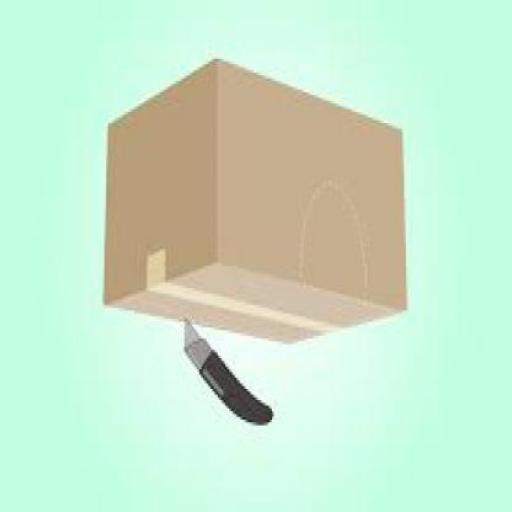cardboard: (100, 62, 406, 347)
glass: (181, 325, 208, 372)
